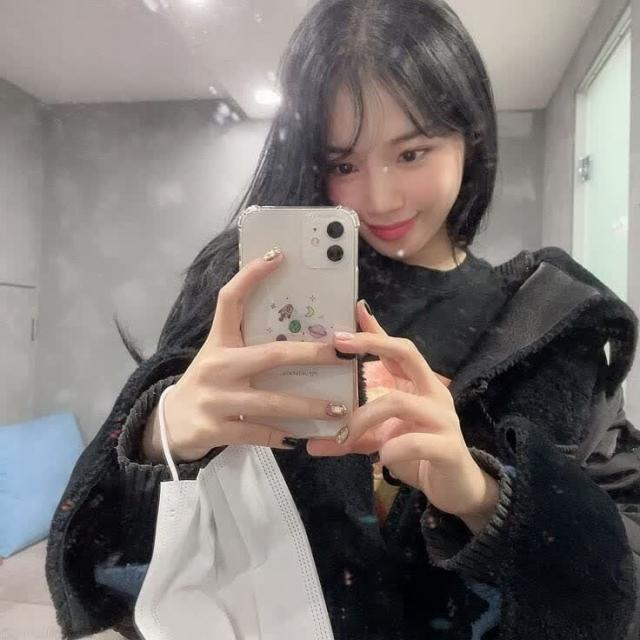phone: (238, 206, 358, 440)
